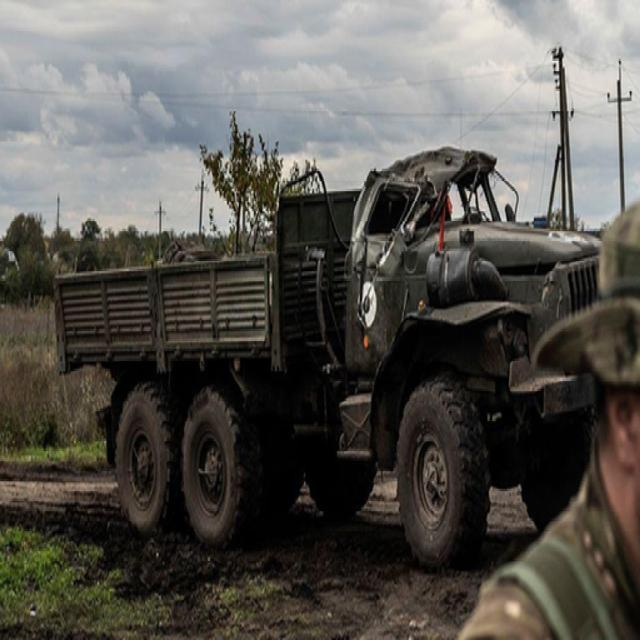TRUCK: (48, 129, 622, 584)
